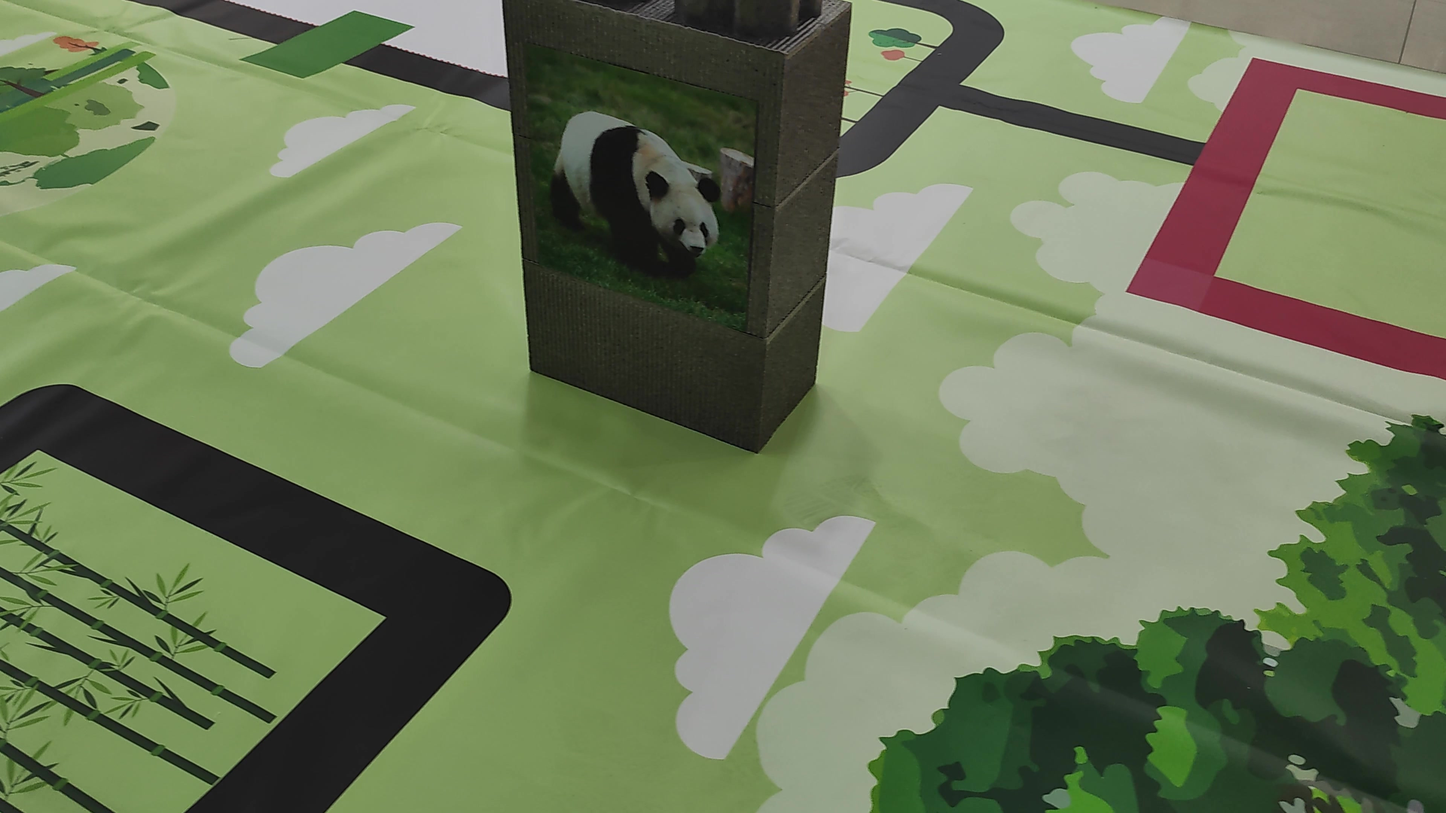panda: (522, 83, 762, 306)
